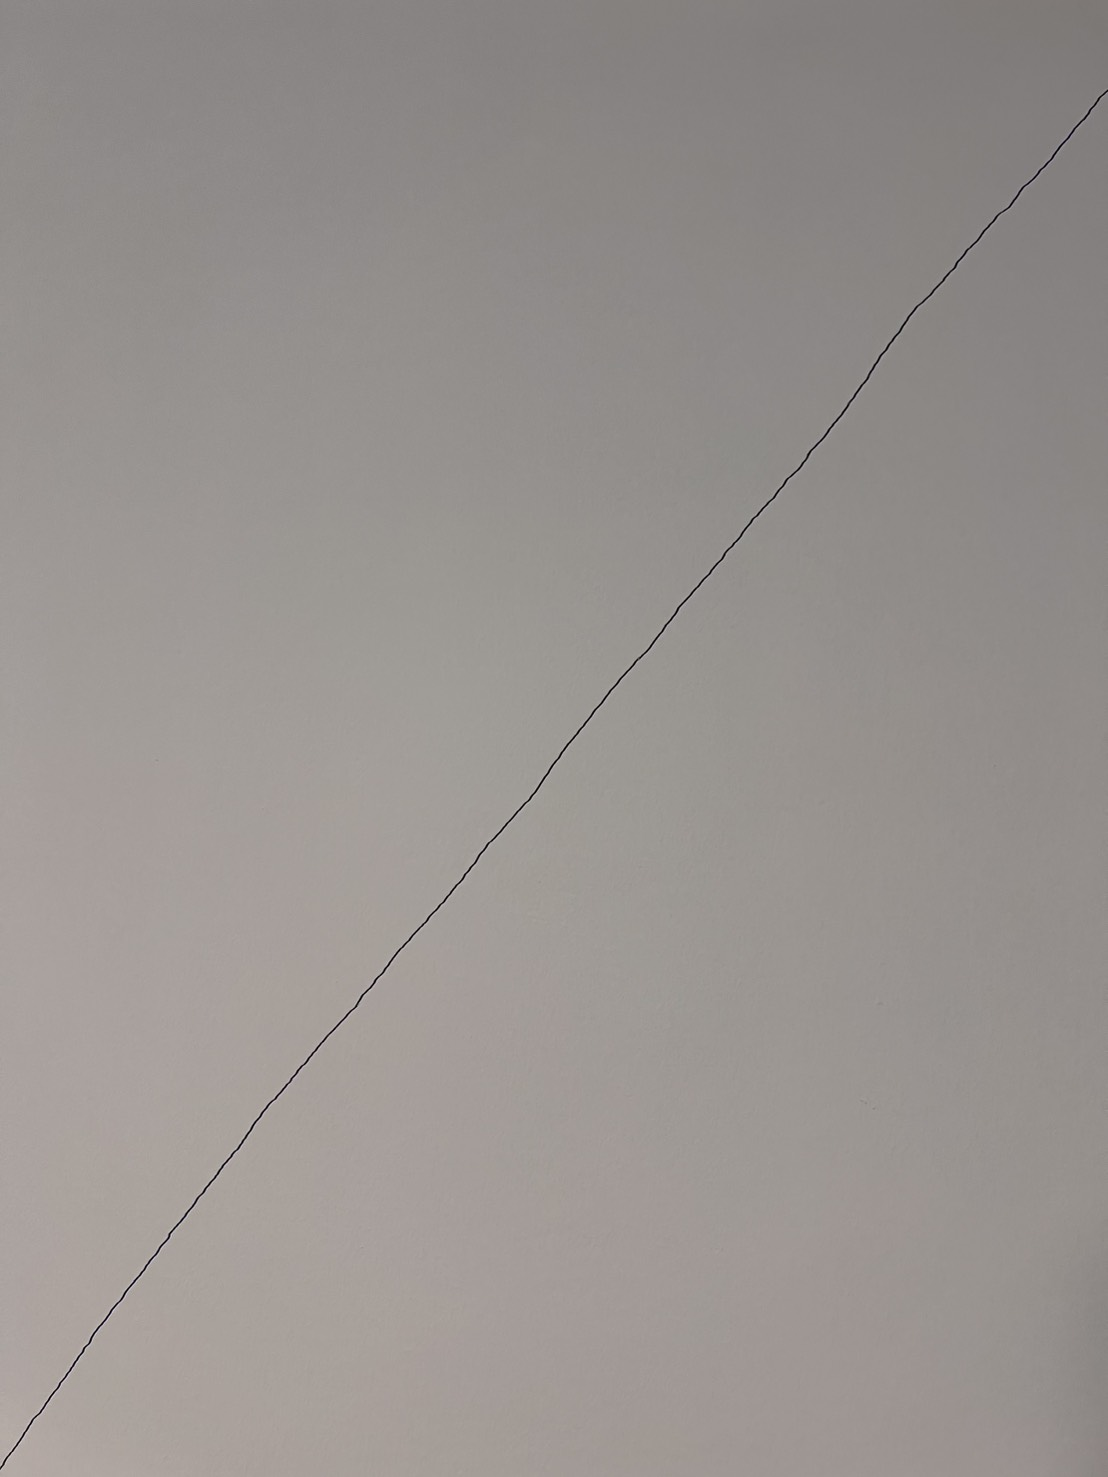Low: (1, 73, 1108, 1462)
